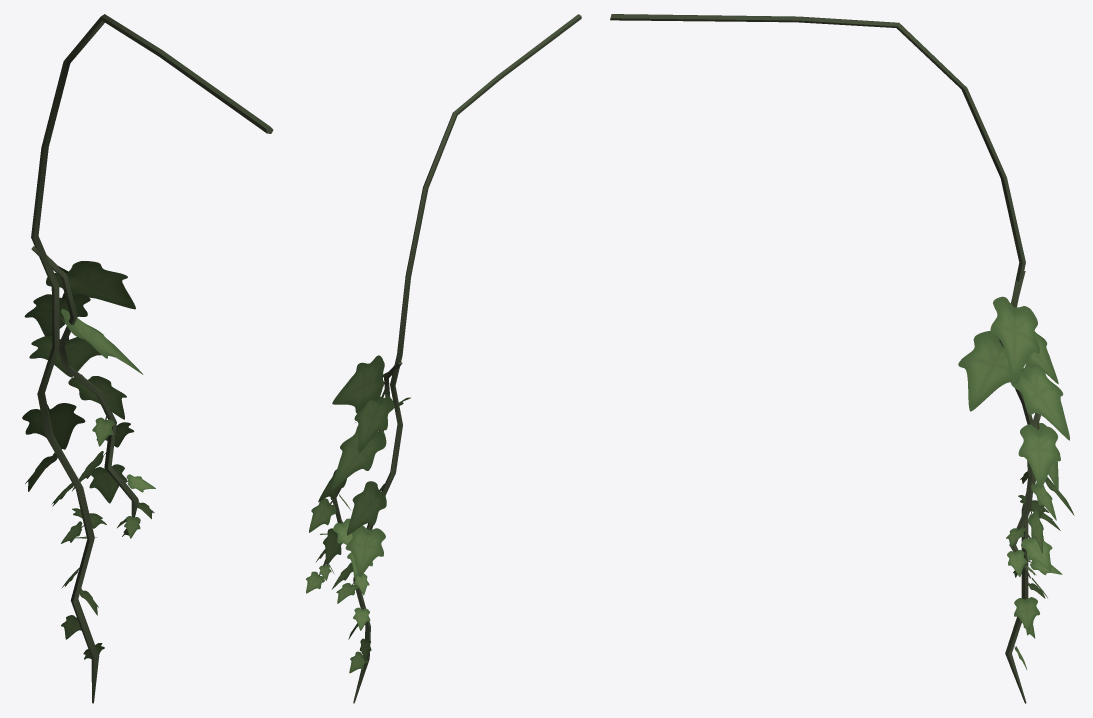
Rendered from SmallClusterIvy.fbx.
3 renders of one model, left to right at view 1: azimuth 30°, elevation 25°; view 2: azimuth 150°, elevation 25°; view 3: azimuth 270°, elevation 25°, orthographic. The views are drawn at different scales.
Visible parts, largest first — view 1: Stem3, Leaf25, Stem, Leaf37, Leaf24, Leaf26, Leaf17, Leaf27, Leaf31; view 2: Stem3, Leaf25, Leaf24, Leaf26, Leaf38, Leaf37, Leaf28; view 3: Stem3, Leaf17, Leaf25, Leaf24, Leaf27, Stem.
Boxes of the visible parts, x1=… form: Stem3: x1=31, y1=14, x2=273, y2=703; Leaf25: x1=46, y1=261, x2=135, y2=309; Stem: x1=31, y1=246, x2=138, y2=517; Leaf37: x1=22, y1=403, x2=85, y2=449; Leaf24: x1=29, y1=336, x2=101, y2=377; Leaf26: x1=24, y1=293, x2=90, y2=336; Leaf17: x1=59, y1=309, x2=143, y2=374; Leaf27: x1=68, y1=374, x2=126, y2=419; Leaf31: x1=89, y1=464, x2=127, y2=503; Stem3: x1=353, y1=14, x2=581, y2=703; Leaf25: x1=332, y1=355, x2=388, y2=413; Leaf24: x1=332, y1=425, x2=386, y2=489; Leaf26: x1=354, y1=389, x2=394, y2=453; Leaf38: x1=345, y1=523, x2=385, y2=576; Leaf37: x1=347, y1=481, x2=386, y2=535; Leaf28: x1=309, y1=498, x2=336, y2=532; Stem3: x1=610, y1=14, x2=1035, y2=703; Leaf17: x1=958, y1=331, x2=1020, y2=411; Leaf25: x1=990, y1=295, x2=1040, y2=381; Leaf24: x1=1011, y1=362, x2=1069, y2=440; Leaf27: x1=1018, y1=419, x2=1060, y2=488; Stem: x1=999, y1=271, x2=1040, y2=578.
Size of the model in its own units: 0.454 by 2.66 by 1.7.
